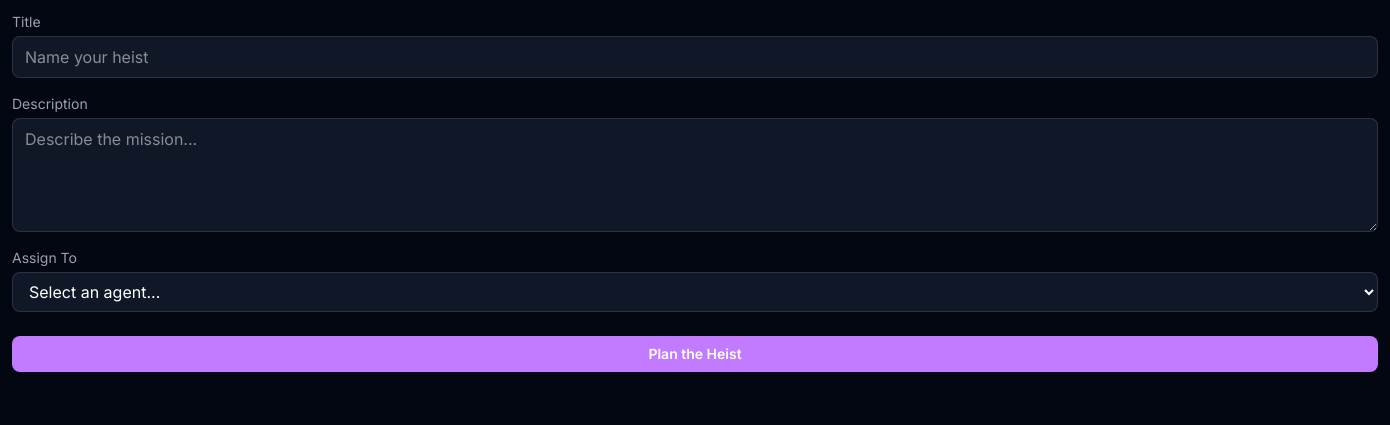
CreateHeistForm › displays error when createHeist fails
Type "Test heist" into the field labelled "Title".
click(695, 57); type("Test heist")  # box x1=12 y1=36 x2=1378 y2=78
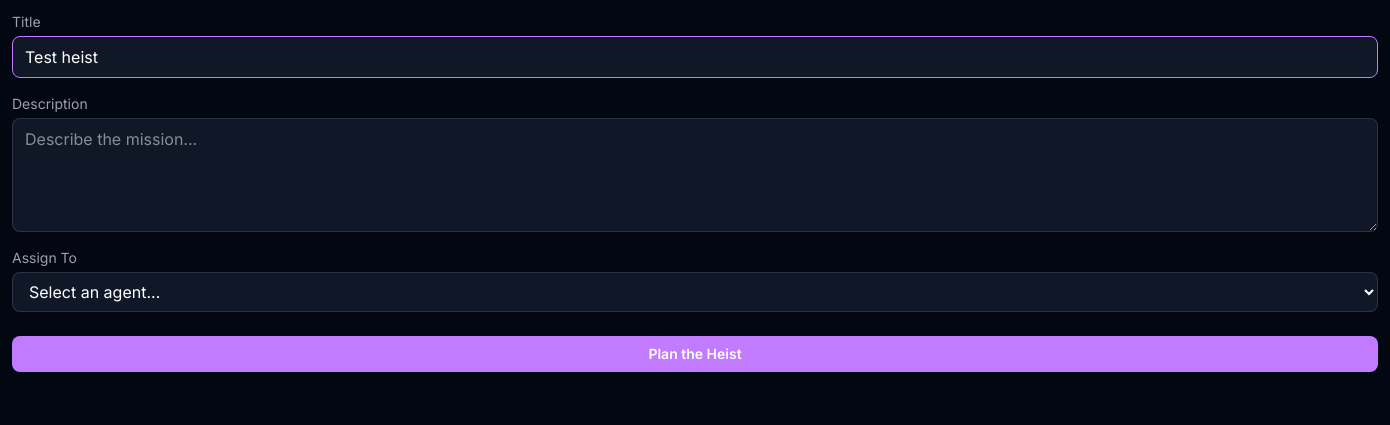
Type "Test description" into the text box labelled "Description".
click(695, 175); type("Test description")  # box x1=12 y1=118 x2=1378 y2=232
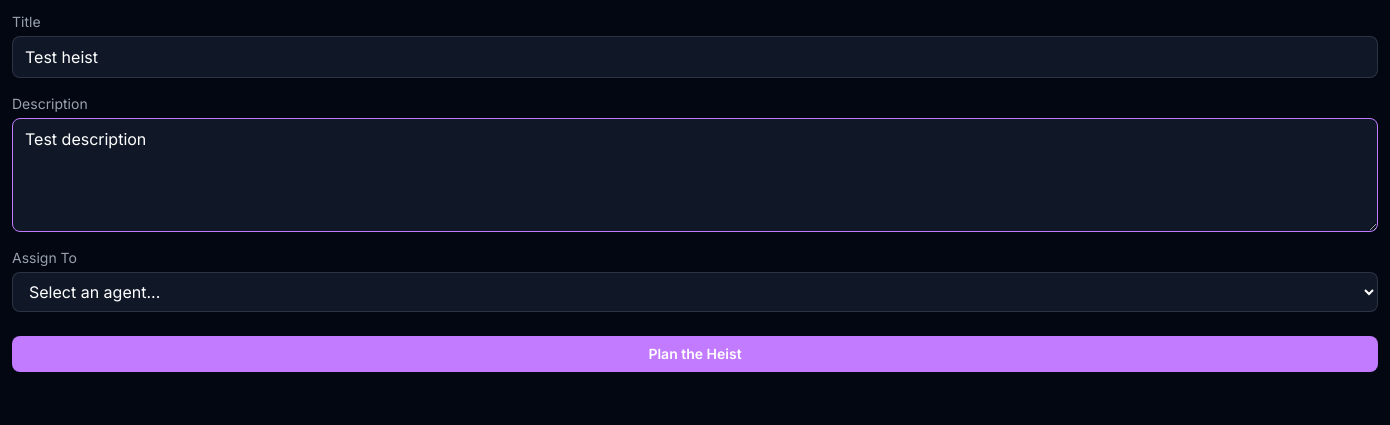
Select "BoldEagle" in the dropdown labelled "Assign To" at coordinates (695, 292), box x1=12 y1=272 x2=1378 y2=312
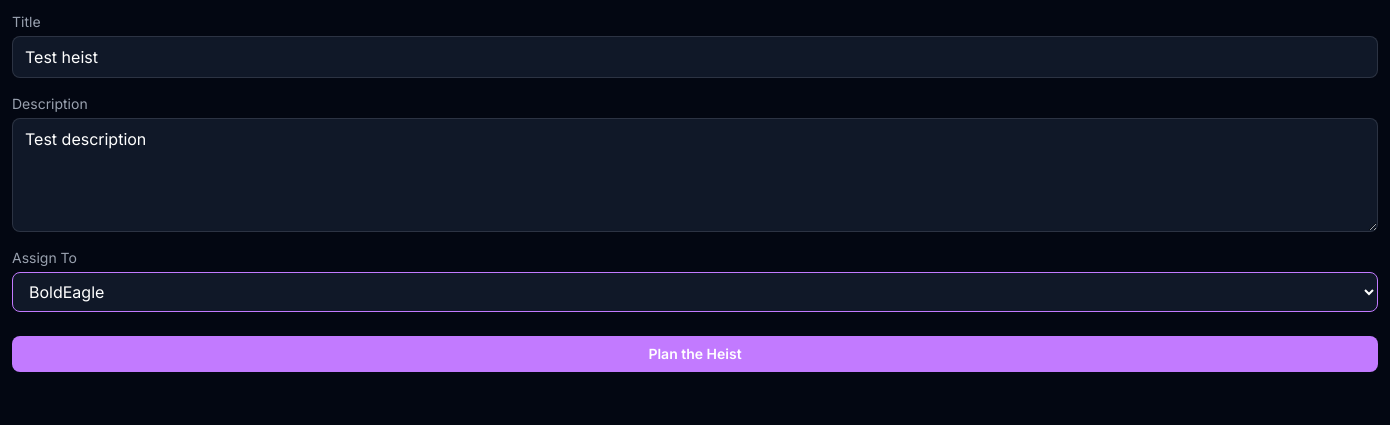
Click the button "Plan the Heist".
click(695, 354)  # box x1=12 y1=336 x2=1378 y2=372
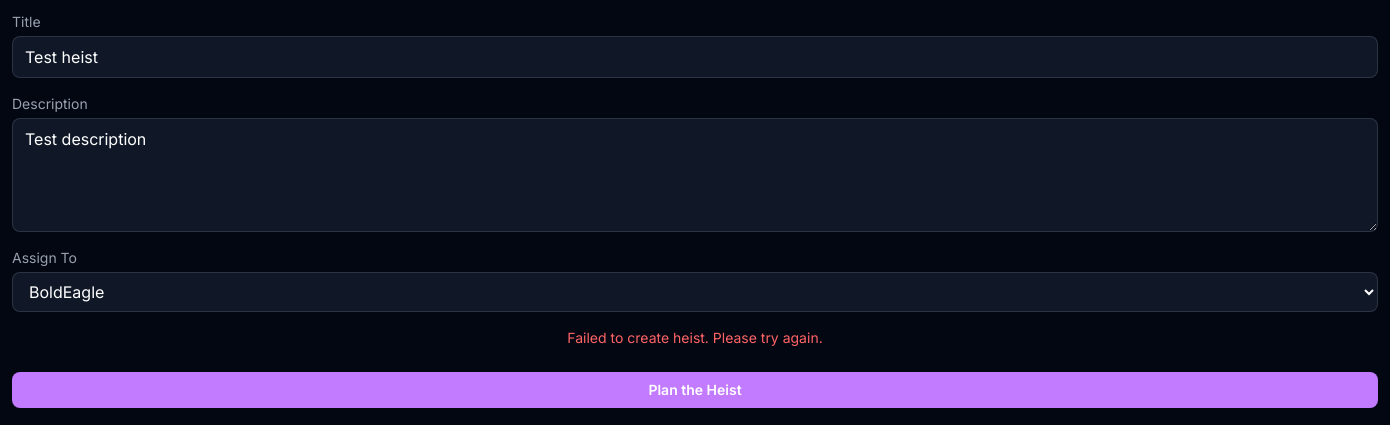
Result: the message reads "Failed to create heist. Please try again." at x1=567 y1=329 x2=823 y2=346
